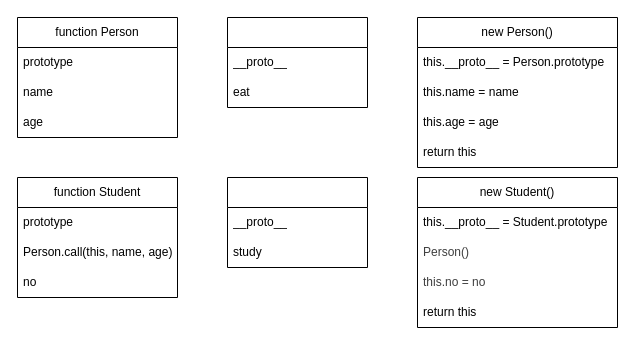
Image size: 635x345. Some labels were removed from this diagram. Each missing label, with the box of its shape:
Person.prototype: (226, 16, 368, 108)
Student.prototype: (226, 176, 368, 268)
